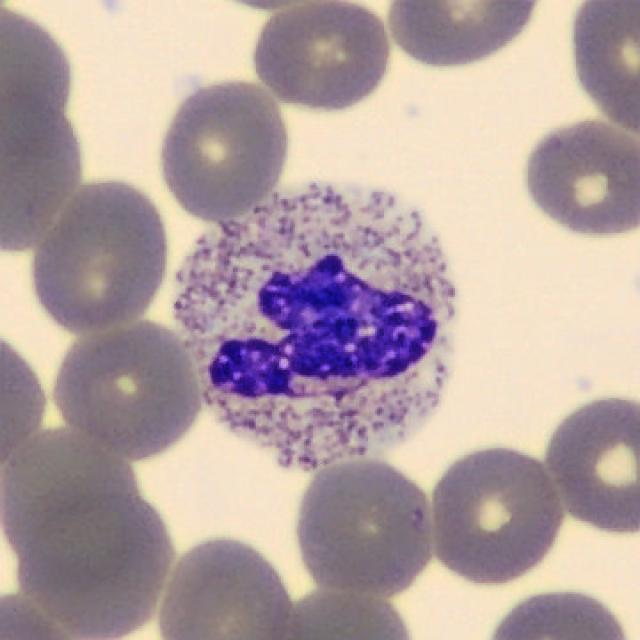Neutrofilo segmentado: (172, 181, 457, 473)
